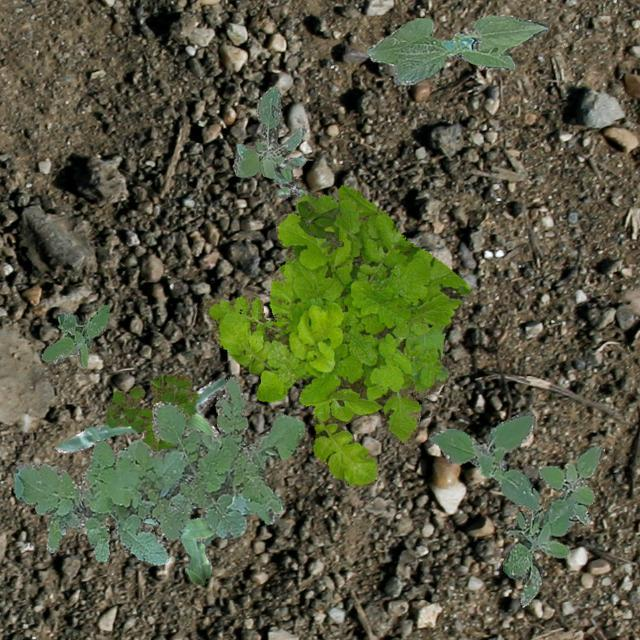crop: (54, 376, 225, 452), (366, 15, 548, 84), (142, 516, 216, 584)
weed: (202, 184, 468, 486), (12, 376, 304, 564), (428, 410, 604, 606), (104, 372, 198, 452), (232, 86, 306, 176), (41, 304, 108, 366), (296, 200, 342, 247), (270, 154, 306, 197)
